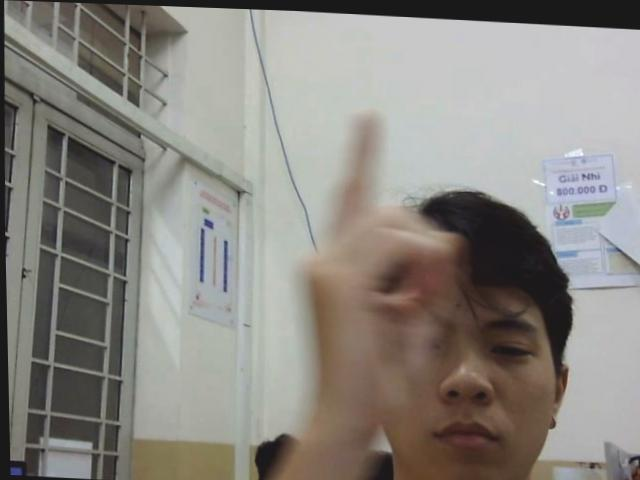D: (293, 103, 465, 417)
